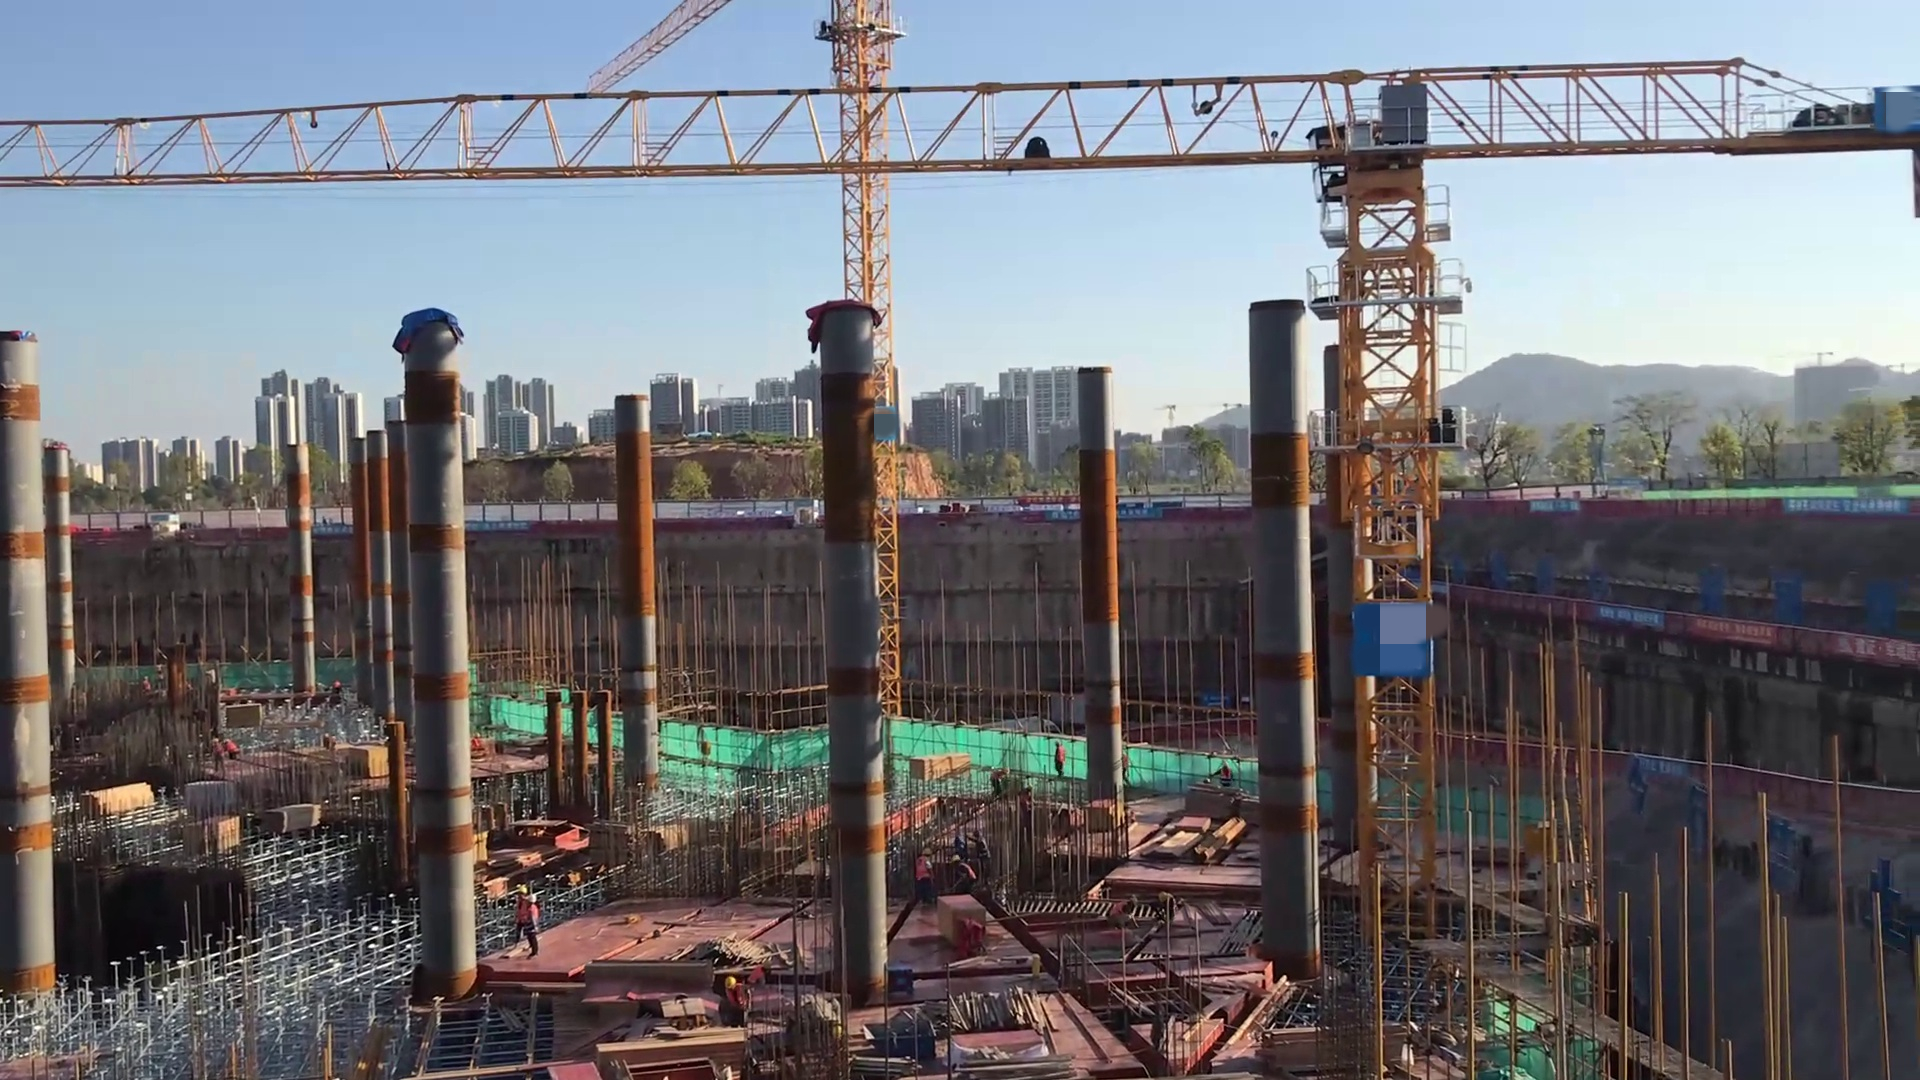board: (545, 1057, 608, 1080), (349, 744, 392, 777)
helmet: (725, 974, 739, 993), (949, 852, 965, 867), (974, 827, 985, 842), (921, 847, 934, 859), (1001, 765, 1013, 778), (528, 892, 538, 905), (761, 961, 771, 972), (518, 886, 528, 896)
hook: (869, 1016, 938, 1064)
person: (722, 972, 753, 1032), (955, 914, 988, 964), (520, 891, 541, 961), (1106, 892, 1140, 933), (510, 882, 529, 947), (951, 852, 977, 897), (915, 846, 935, 906), (988, 760, 1013, 802), (1216, 758, 1240, 802), (744, 960, 772, 992), (222, 738, 246, 771), (1157, 885, 1177, 923), (1018, 782, 1038, 821), (973, 828, 993, 865), (1053, 736, 1068, 782), (1116, 746, 1130, 792), (210, 736, 224, 773), (470, 726, 484, 755), (331, 678, 345, 699)
slogan: (1783, 492, 1906, 520), (1695, 615, 1783, 646), (1841, 636, 1909, 670), (1598, 603, 1668, 633), (462, 518, 525, 536), (1528, 499, 1579, 512), (1115, 506, 1157, 521), (309, 525, 355, 537), (1051, 509, 1084, 522)
vest: (724, 983, 751, 1018), (915, 853, 933, 889), (514, 897, 531, 927), (959, 861, 979, 883), (749, 967, 765, 986), (1220, 768, 1234, 786)
wood: (1251, 1021, 1416, 1072), (76, 780, 163, 821), (905, 749, 971, 790), (257, 803, 329, 837)
